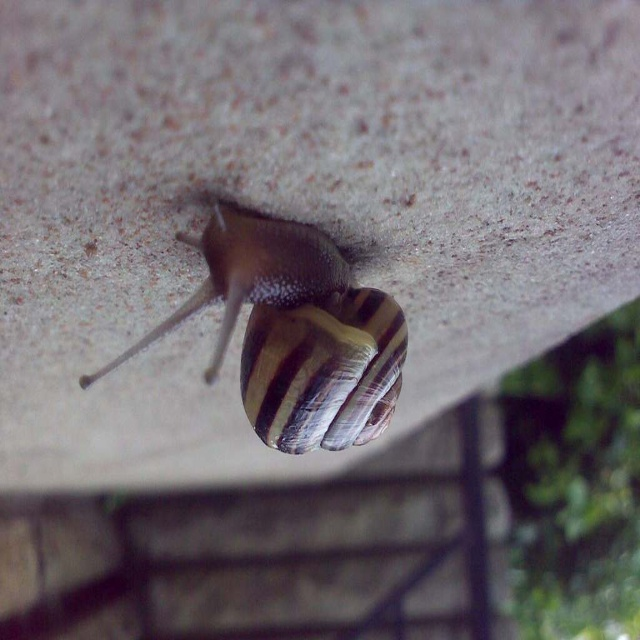Snail: (77, 179, 412, 461)
